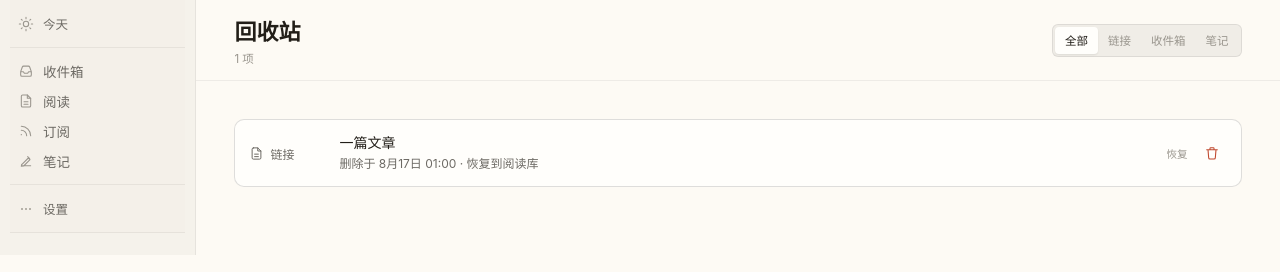
Scenario: TrashSurface › purges through the host-specific route once confirmed
Expected: the text "一篇文章" is shown, [339,134,395,151]
Click the button named "永久删除" at [1212, 153], box [1197,138,1227,168]
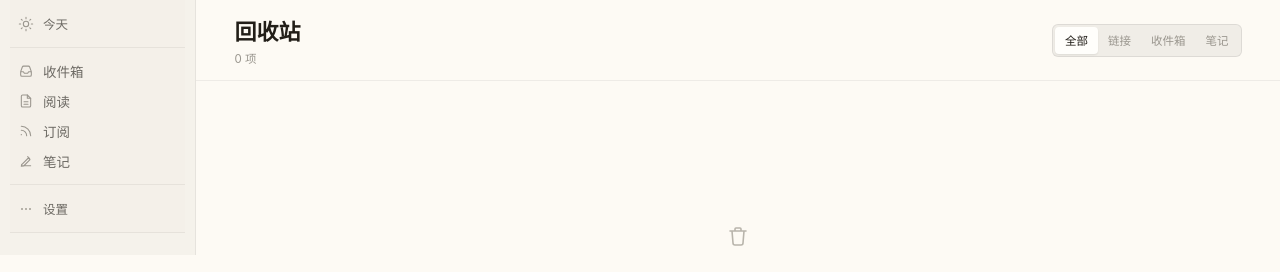
Result: the text "一篇文章" is gone
